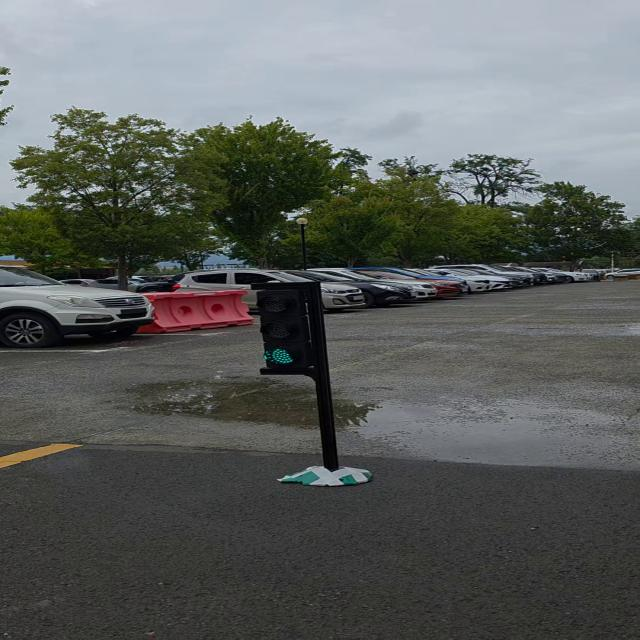green: (253, 281, 329, 374)
